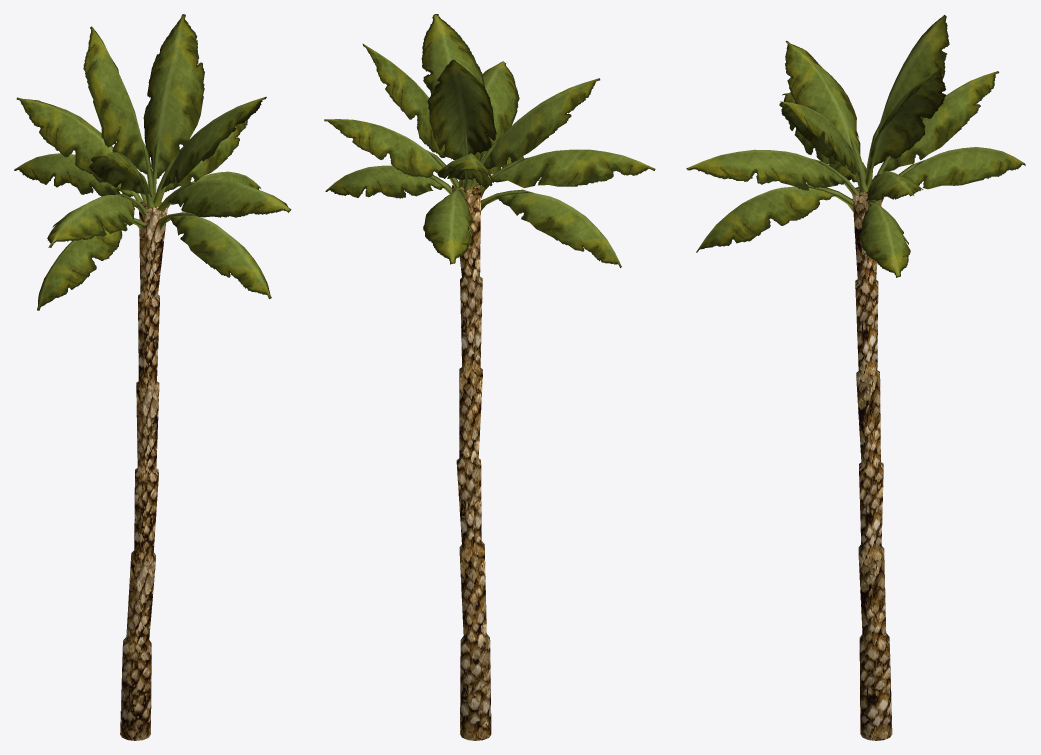
The model's file is SM_TI_Palm_Tree_4.fbx.
3 renders of one model, left to right at view 1: azimuth 30°, elevation 25°; view 2: azimuth 150°, elevation 25°; view 3: azimuth 270°, elevation 25°, orthographic. The views are drawn at different scales.
Parts seen in each view (by area): view 1: SM_TI_Palm_Tree_4; view 2: SM_TI_Palm_Tree_4; view 3: SM_TI_Palm_Tree_4.
Boxes of the visible parts, x1,y1,x2,y2 form: SM_TI_Palm_Tree_4: [14, 14, 291, 740]; SM_TI_Palm_Tree_4: [324, 14, 655, 740]; SM_TI_Palm_Tree_4: [686, 15, 1025, 740].
Size of the model in its own units: 3.49 by 3.73 by 8.58.
